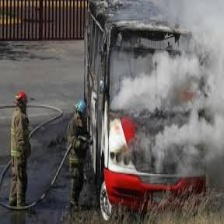smoke: (125, 57, 220, 185)
